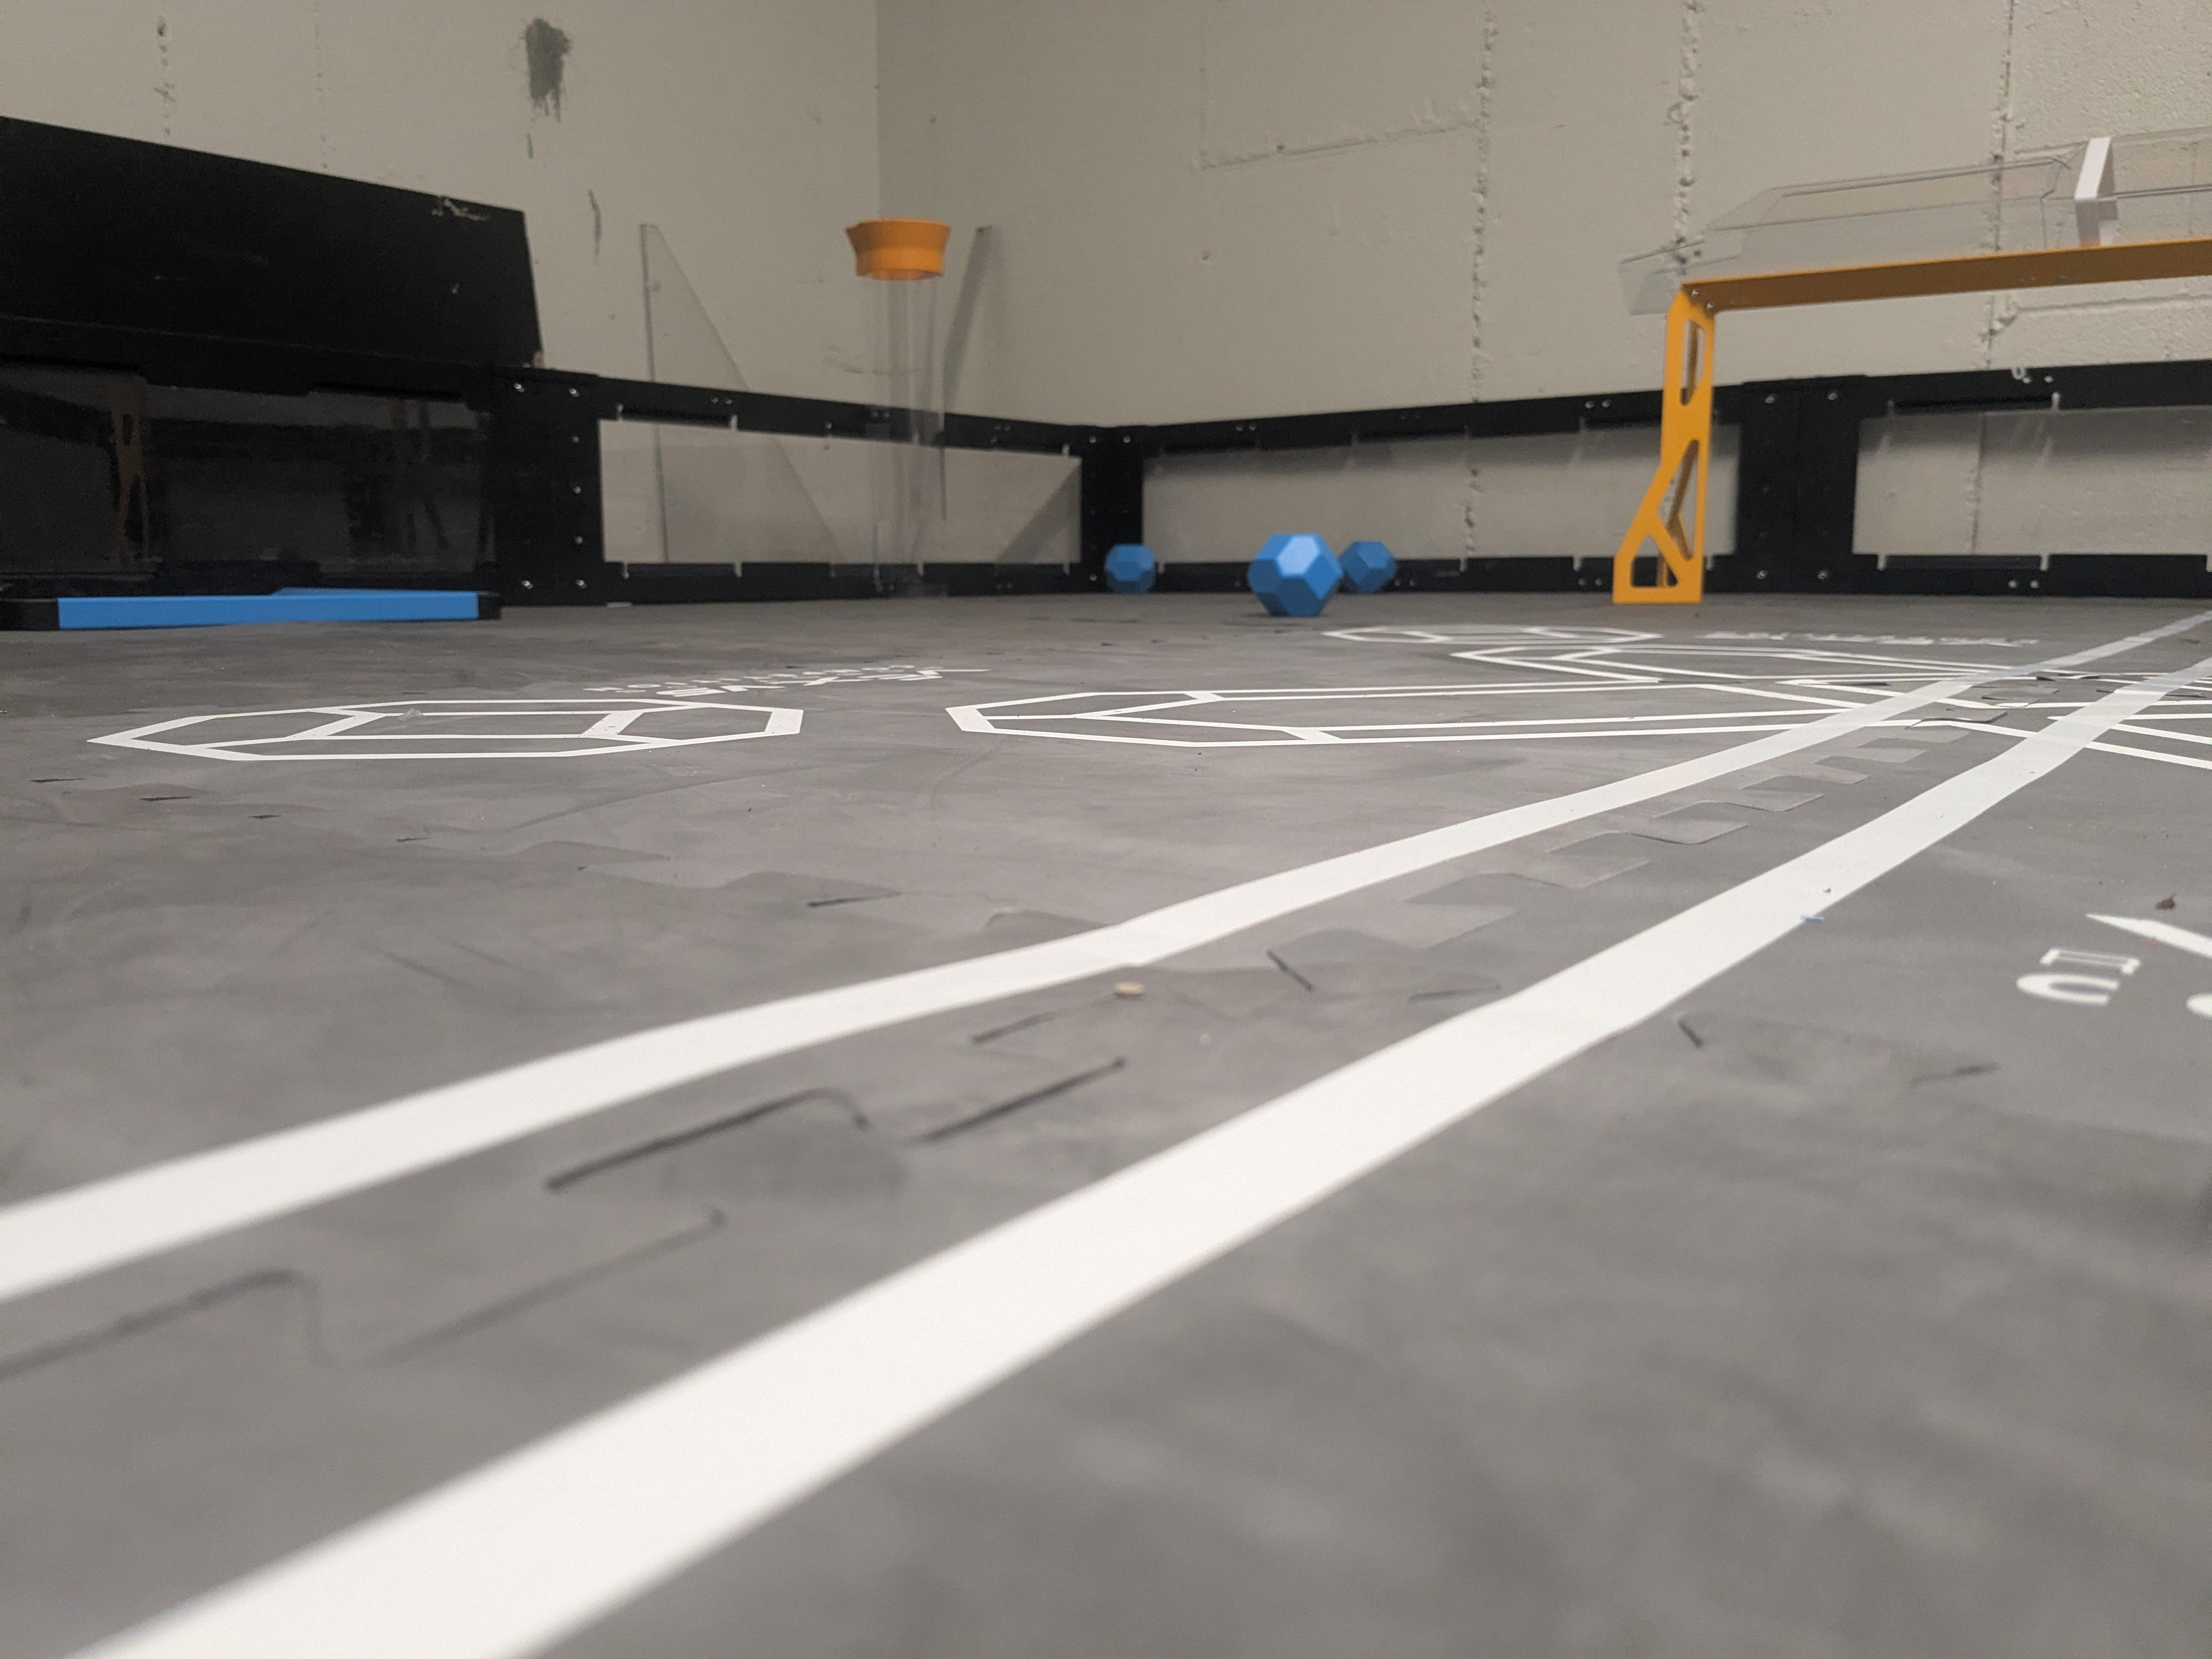Vex-Pieces-BLUE: (1244, 533, 1392, 619), (1104, 544, 1157, 592)
